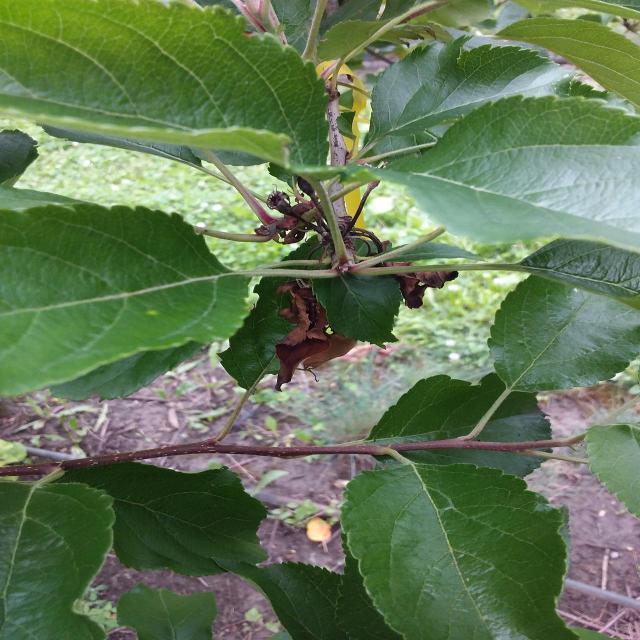-FireBlight-: (275, 279, 361, 392)
